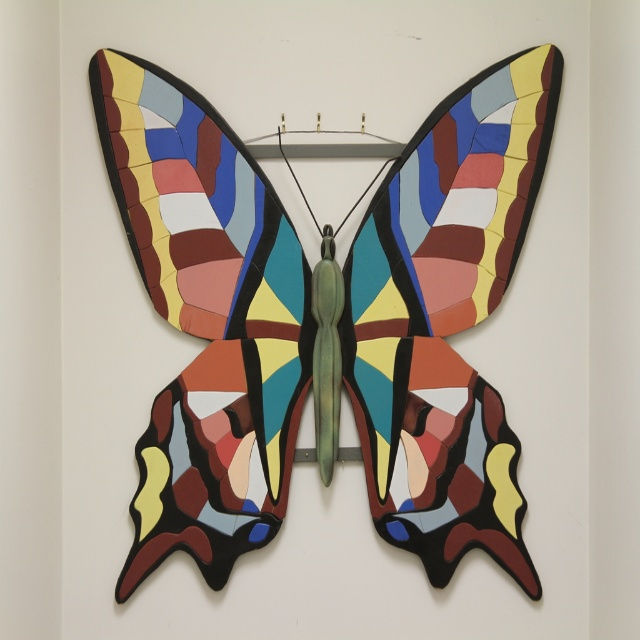Butterfly: (94, 58, 545, 588)
